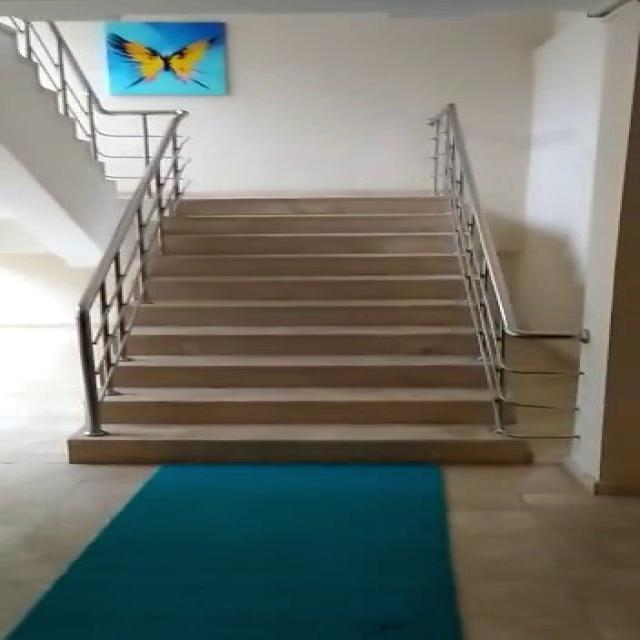stair: (65, 193, 527, 470)
